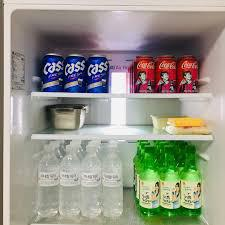beer: (42, 53, 111, 93)
